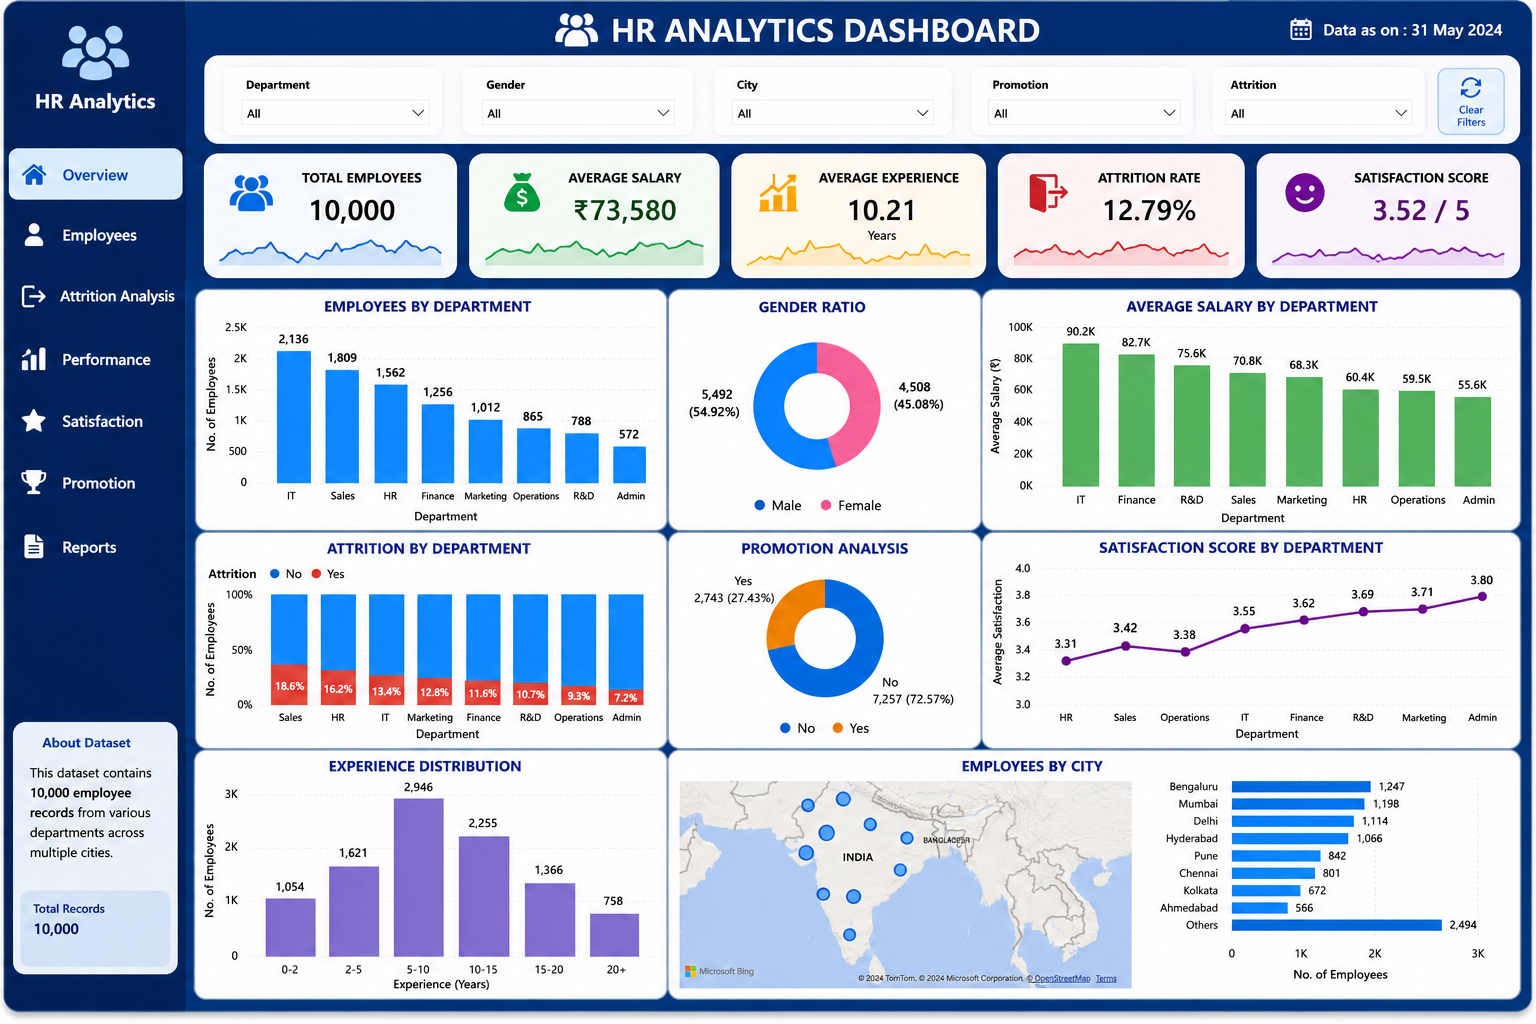

The page's visual inventory and layout, read from the dashboard file:
{"tool":"powerbi","page":{"name":"Page 1","canvas":[1280,720],"ordinal":0},"visuals":[{"type":"shape","box":[10.1,0,1270.2,68.1],"z":0},{"type":"textbox","box":[34.8,5.8,1210.8,57.9],"z":1},{"type":"slicer","fields":{"Values":["Employees.Department"]},"box":[183.9,68.1,198.4,72.4],"z":2},{"type":"slicer","fields":{"Values":["Employees.Gender"]},"box":[404.1,73.9,173.8,60.8],"z":3},{"type":"slicer","fields":{"Values":["Employees.City"]},"box":[793.5,75.5,153.3,68.2],"z":4},{"type":"slicer","fields":{"Values":["Employees.Promotion"]},"box":[606,75.5,174,59.6],"z":5},{"type":"slicer","fields":{"Values":["Employees.Attrition"]},"box":[1023.5,74.2,163.1,68.2],"z":6},{"type":"clusteredColumnChart","title":"Employees by Department","fields":{"Category":["Employees.Department"],"Y":["CountNonNull(Employees.Employee_ID)"]},"box":[199.6,148.5,343.2,238.5],"z":7},{"type":"shape","box":[183.8,135.1,359,251.9],"z":8},{"type":"shape","box":[553.7,135.1,348.1,251.9],"z":9},{"type":"donutChart","title":"Gender Ratio","fields":{"Y":["Employees.Total Employees"],"Category":["Employees.Gender"]},"box":[573.2,154.6,309.1,205.7],"z":10},{"type":"clusteredColumnChart","title":"Average Salary by Department","fields":{"Category":["Employees.Department"],"Y":["Sum(Employees.Salary)"]},"box":[933.4,152.1,307.9,219.1],"z":11},{"type":"shape","box":[912.7,135.1,348.1,251.9],"z":12},{"type":"hundredPercentStackedColumnChart","title":"Attrition by Department","fields":{"Category":["Employees.Department"],"Y":["CountNonNull(Employees.Employee_ID)"],"Series":["Employees.Attrition"]},"box":[187.4,427.2,326.1,200.8],"z":13},{"type":"shape","box":[183.8,401.6,359,251.9],"z":14},{"type":"donutChart","title":"Promotion Analysis","fields":{"Category":["Employees.Promotion"],"Y":["CountNonNull(Employees.Employee_ID)"]},"box":[573.2,421.1,239.7,214.2],"z":15},{"type":"shape","box":[542.8,401.6,314,251.9],"z":16},{"type":"lineChart","title":"Satisfaction Score by Departmen","fields":{"Category":["Employees.Department"],"Y":["Sum(Employees.Satisfaction)"]},"box":[912.7,436.9,318.8,210.5],"z":17},{"type":"shape","box":[887.2,401.6,359,251.9],"z":18},{"type":"map","fields":{"Category":["Employees.City"],"Size":["CountNonNull(Employees.Employee_ID)"]},"box":[539.1,509.9,322.5,210.5],"z":19}]}

Visuals, with their boxes on the page's 1280x720 design canvas (x1, y1, x2, y2). These are canvas units, not pixel positions in the 1536x1024 screenshot, which may show the page scaled, cropped or inside an application window:
shape: box(10, 0, 1280, 68)
textbox: box(35, 6, 1246, 64)
slicer - Employees.Department: box(184, 68, 382, 140)
slicer - Employees.Gender: box(404, 74, 578, 135)
slicer - Employees.City: box(794, 76, 947, 144)
slicer - Employees.Promotion: box(606, 76, 780, 135)
slicer - Employees.Attrition: box(1024, 74, 1187, 142)
"Employees by Department" clusteredColumnChart: box(200, 148, 543, 387)
shape: box(184, 135, 543, 387)
shape: box(554, 135, 902, 387)
"Gender Ratio" donutChart: box(573, 155, 882, 360)
"Average Salary by Department" clusteredColumnChart: box(933, 152, 1241, 371)
shape: box(913, 135, 1261, 387)
"Attrition by Department" hundredPercentStackedColumnChart: box(187, 427, 514, 628)
shape: box(184, 402, 543, 654)
"Promotion Analysis" donutChart: box(573, 421, 813, 635)
shape: box(543, 402, 857, 654)
"Satisfaction Score by Departmen" lineChart: box(913, 437, 1232, 647)
shape: box(887, 402, 1246, 654)
map - Employees.City x CountNonNull(Employees.Employee_ID): box(539, 510, 862, 720)
